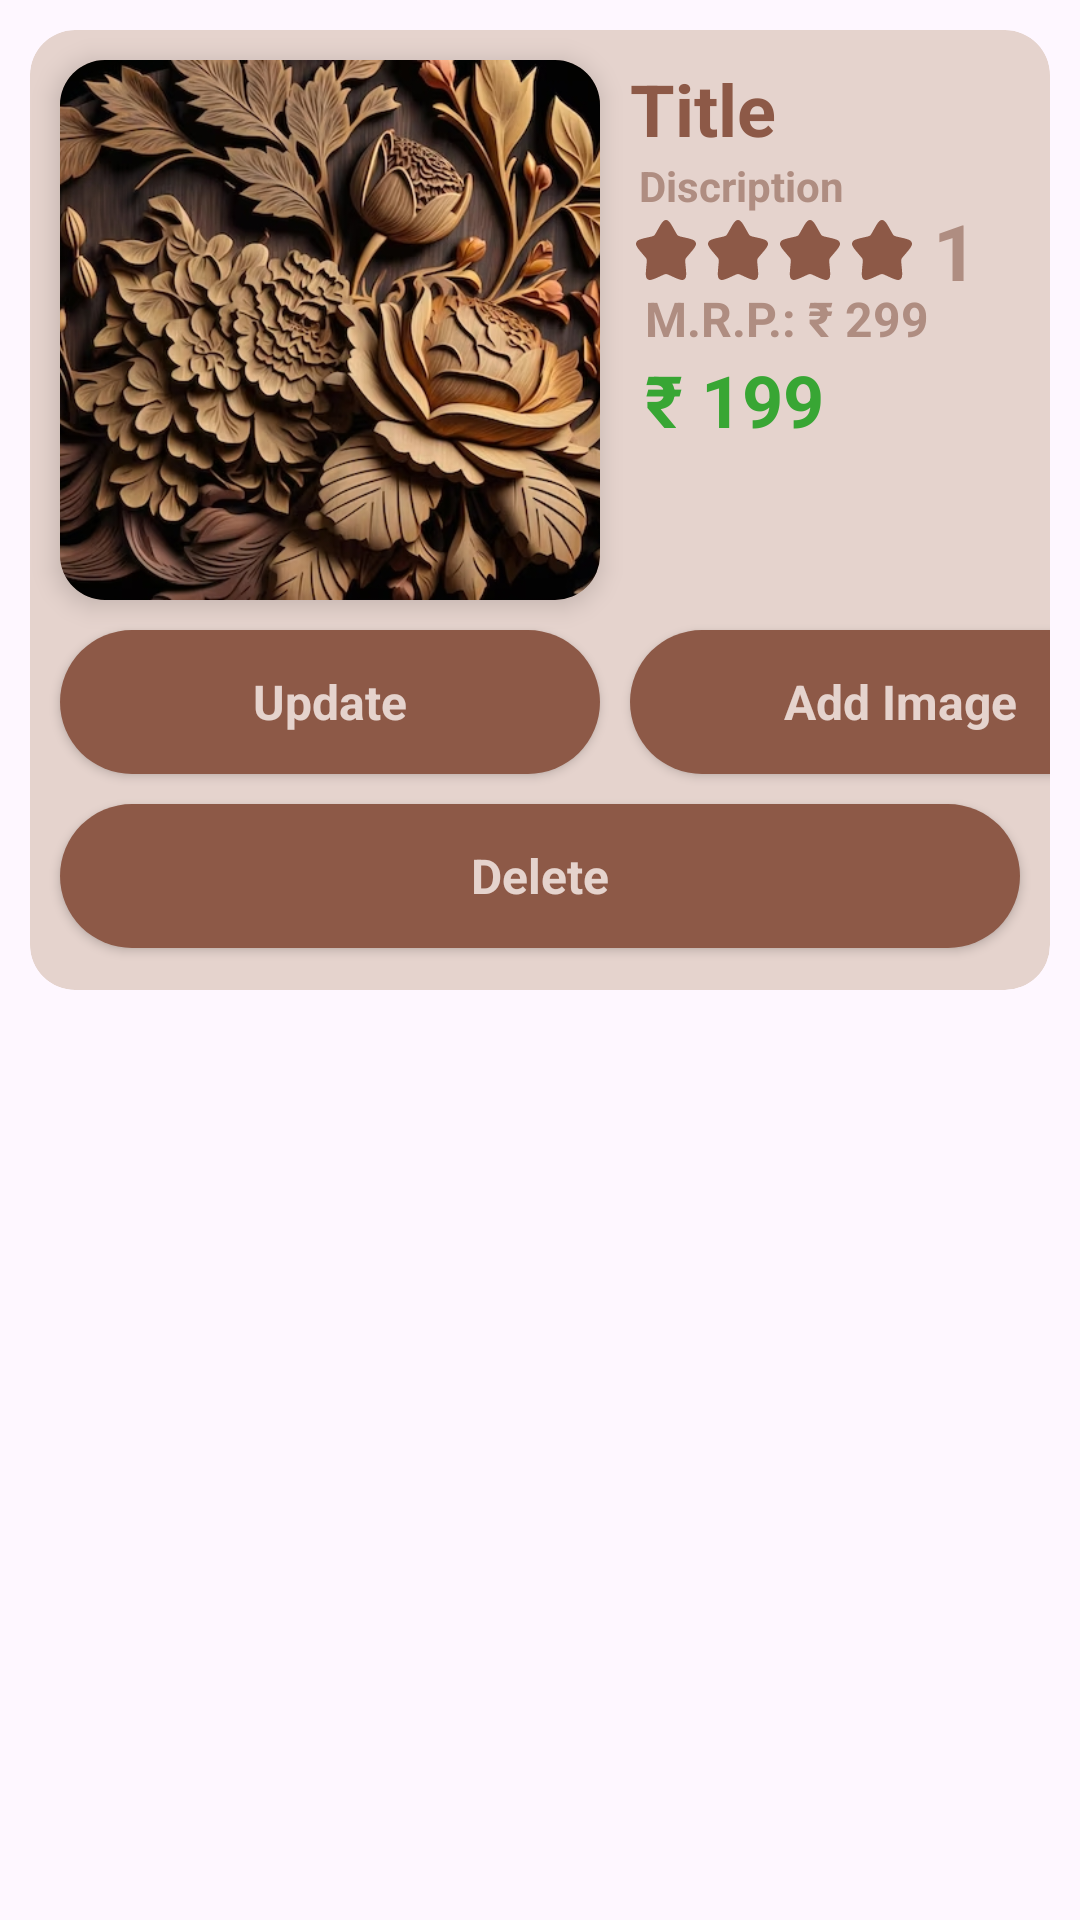

Point at icon controls on the screen. Image size 1080x1920, points as point (x, y).
star: point (666, 250), point (738, 250), point (810, 250), point (882, 250)
